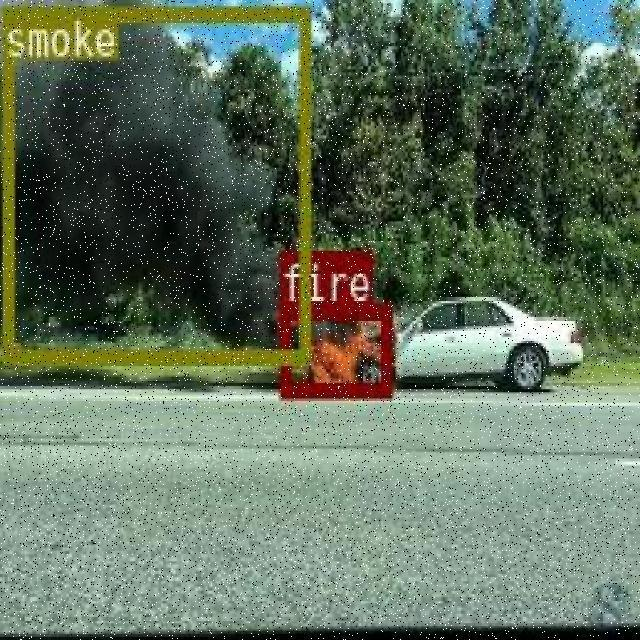Smoke: (0, 0, 244, 296)
